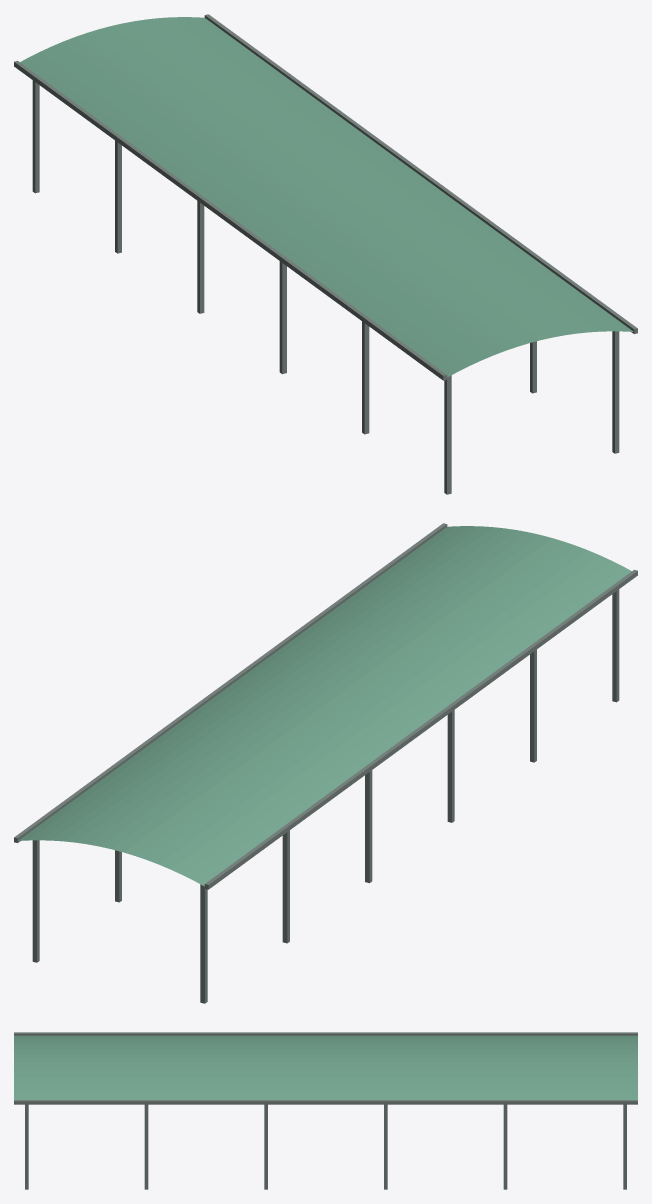
3 renders of one model, top to bottom at view 1: azimuth 30°, elevation 25°; view 2: azimuth 150°, elevation 25°; view 3: azimuth 270°, elevation 25°, orthographic. The views are drawn at different scales.
Visible parts, largest first — view 1: walkway__canopyglass, walkway__steel; view 2: walkway__canopyglass, walkway__steel; view 3: walkway__canopyglass, walkway__steel.
Part boxes in pixels (x1,y1,x2,y2): walkway__canopyglass: (20, 17, 633, 377); walkway__steel: (14, 14, 637, 494); walkway__canopyglass: (18, 526, 631, 886); walkway__steel: (14, 523, 637, 1003); walkway__canopyglass: (14, 1035, 637, 1099); walkway__steel: (14, 1032, 637, 1189).
Size of the model in its own units: 5.1 by 3.48 by 19.49.
